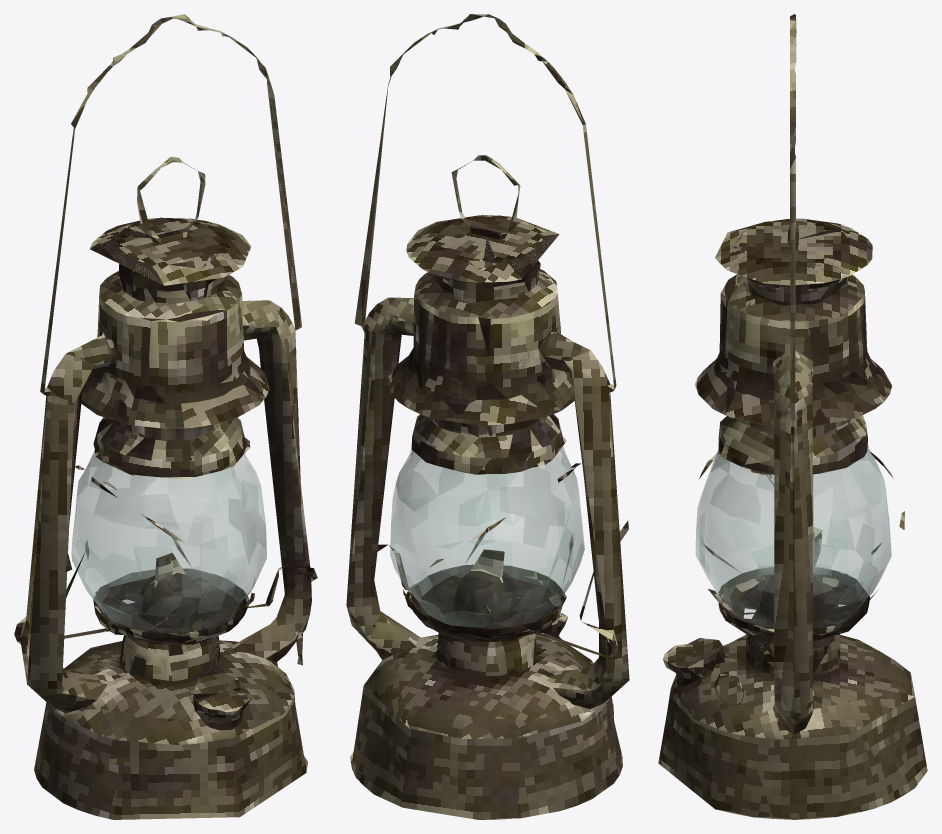
File: lantern.glb
3 renders of one model, left to right at view 1: azimuth 30°, elevation 25°; view 2: azimuth 150°, elevation 25°; view 3: azimuth 270°, elevation 25°, orthographic.
Visible parts, largest first — view 1: body, glass; view 2: body, glass; view 3: body, glass.
Boxes of the visible parts, x1=… form: body: x1=14, y1=14, x2=317, y2=819; glass: x1=71, y1=449, x2=266, y2=632; body: x1=346, y1=14, x2=629, y2=819; glass: x1=390, y1=446, x2=584, y2=628; body: x1=658, y1=14, x2=927, y2=819; glass: x1=695, y1=444, x2=891, y2=628.
Size of the model in its own units: 0.1144 by 0.2942 by 0.0966.
2 materials, 2 textured.
